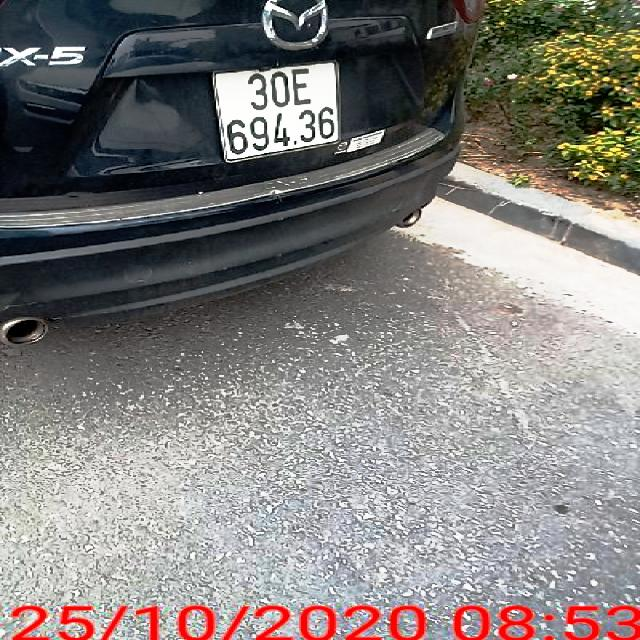license_plate: (214, 62, 339, 162)
